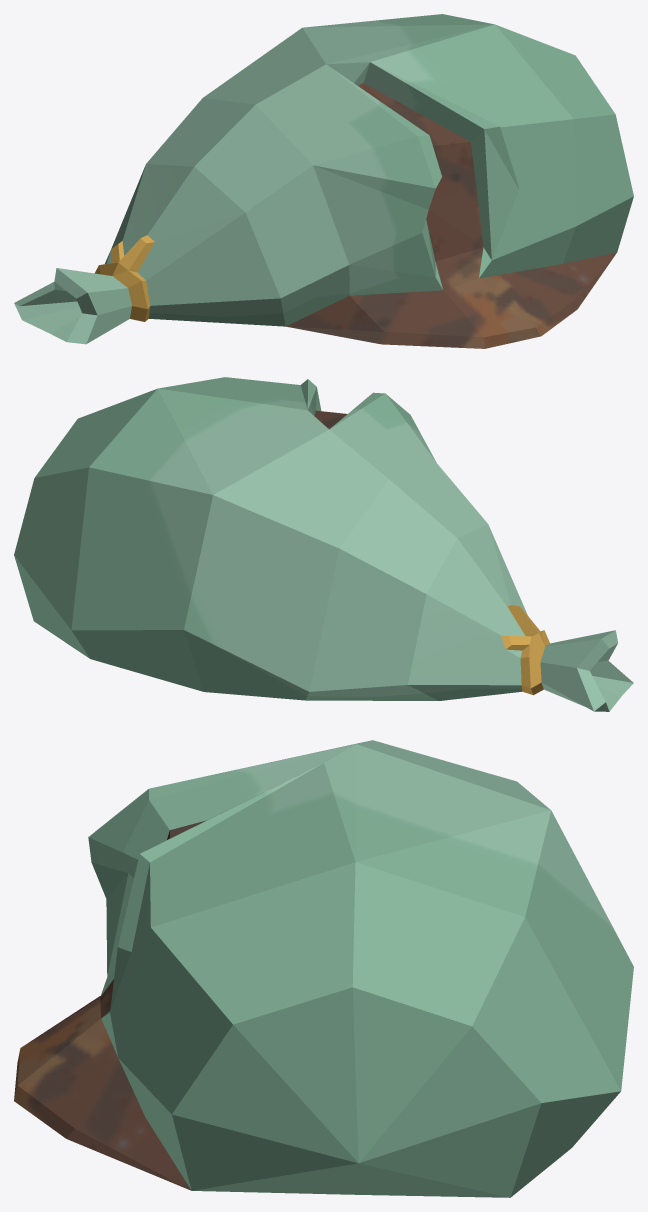
The model's file is SM_Prop_TrashBag_03_1189.obj.
3 views of the same model, one above another, from view 1: azimuth 30°, elevation 25°; view 2: azimuth 150°, elevation 25°; view 3: azimuth 270°, elevation 25° (orthographic). The views are drawn at different scales.
Parts seen in each view (by area): view 1: SM_Prop_TrashBag_03_0; view 2: SM_Prop_TrashBag_03_0; view 3: SM_Prop_TrashBag_03_0.
Part boxes in pixels (x1,y1,x2,y2): SM_Prop_TrashBag_03_0: [14, 14, 633, 348]; SM_Prop_TrashBag_03_0: [14, 377, 633, 711]; SM_Prop_TrashBag_03_0: [14, 740, 633, 1197].
Bounding box in the file's own units: 1.15 × 0.4145 × 0.7725.
1 material, 1 textured.
